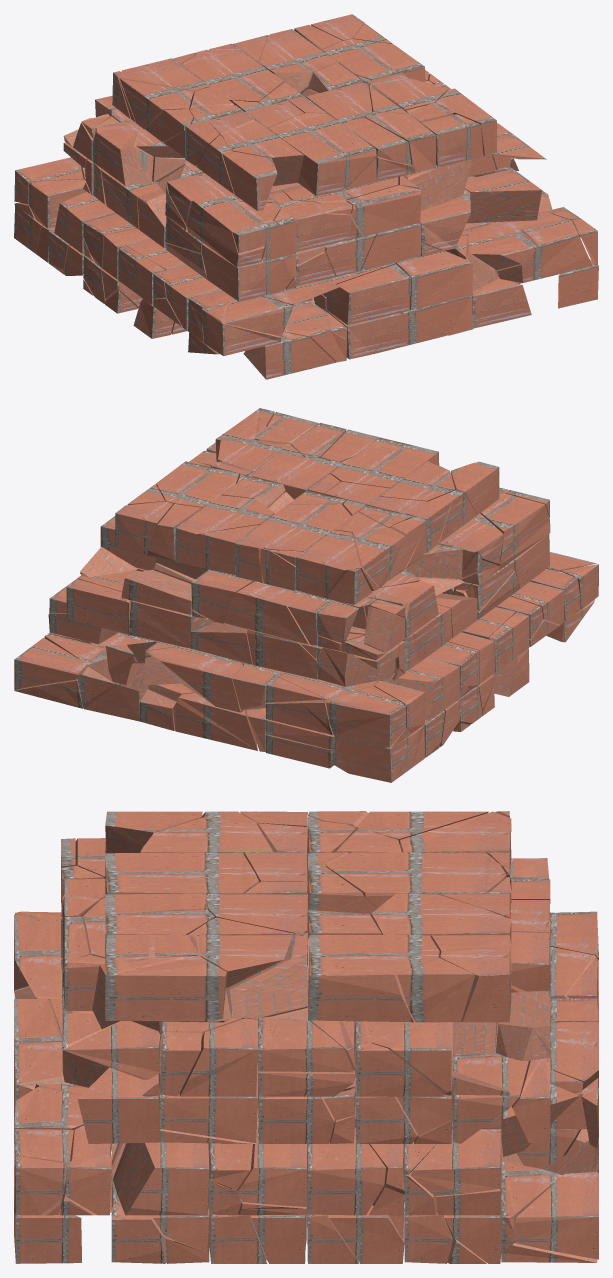
Rendered from SM_Tower_Footing_03.fbx.
3 views of the same model, one above another, from view 1: azimuth 30°, elevation 25°; view 2: azimuth 150°, elevation 25°; view 3: azimuth 270°, elevation 25° (orthographic). The views are drawn at different scales.
Visible parts, largest first — view 1: SM_Tower_Footing_03; view 2: SM_Tower_Footing_03; view 3: SM_Tower_Footing_03.
Boxes of the visible parts, x1,y1,x2,y2 form: SM_Tower_Footing_03: (14, 14, 598, 379); SM_Tower_Footing_03: (14, 408, 598, 782); SM_Tower_Footing_03: (14, 811, 598, 1263).
Size of the model in its own units: 75.03 by 32.87 by 71.97.
